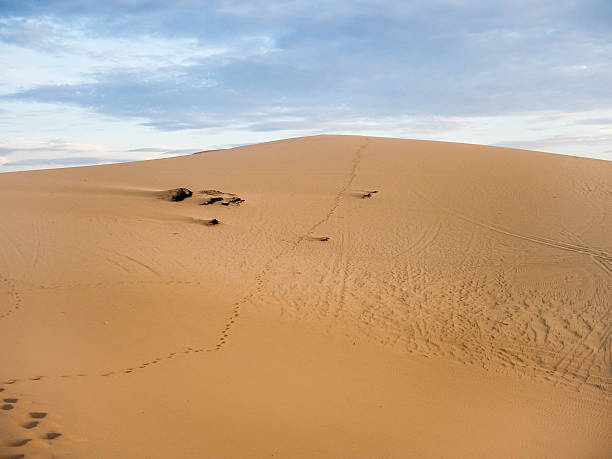human_footprint: (183, 250, 286, 354), (213, 250, 287, 349), (0, 384, 62, 458), (0, 276, 21, 318), (8, 438, 32, 447), (45, 432, 61, 439), (22, 421, 38, 428), (30, 412, 46, 418), (0, 403, 13, 410), (29, 376, 43, 380)
